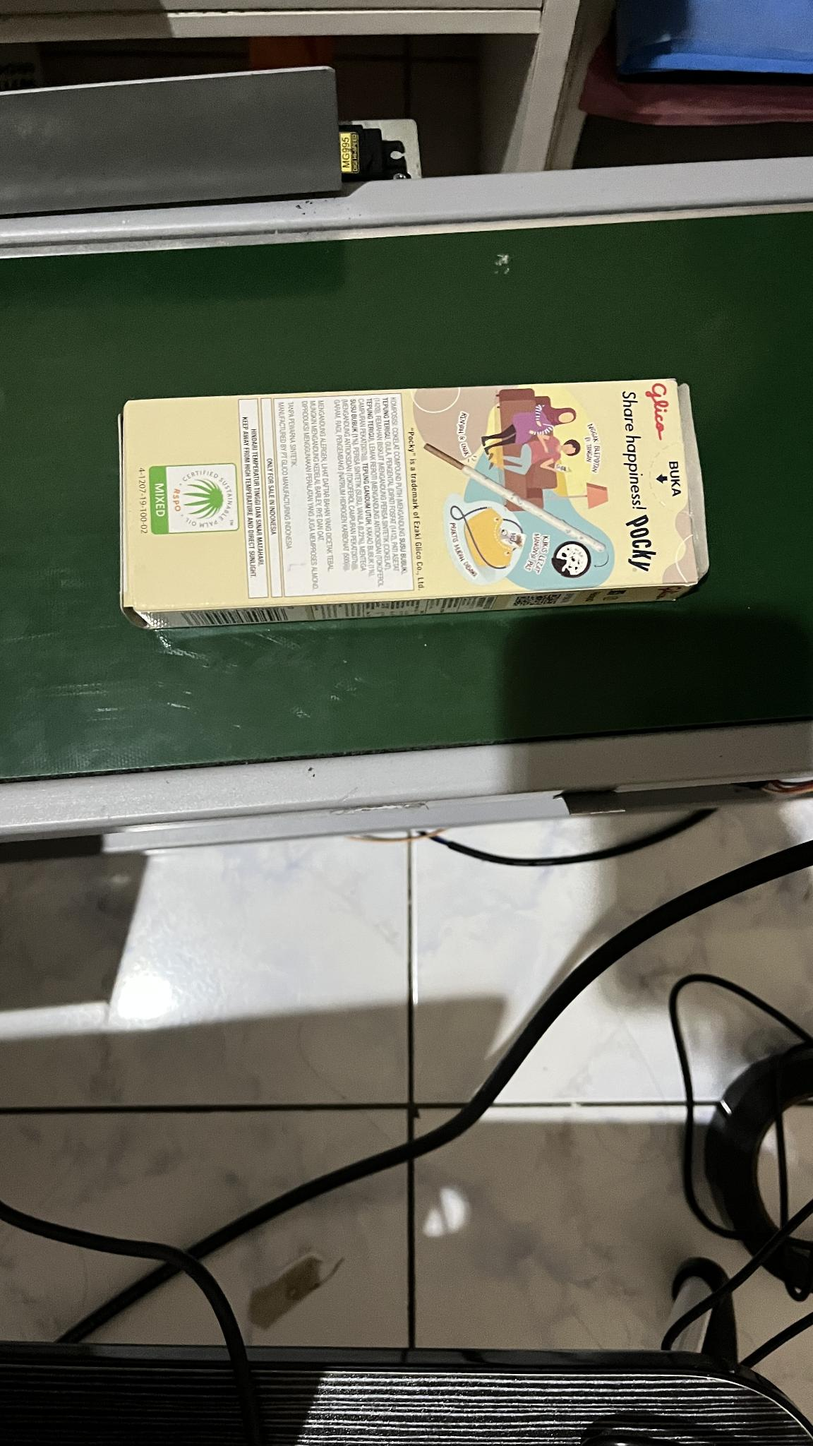Kertas: (129, 398, 710, 588)
